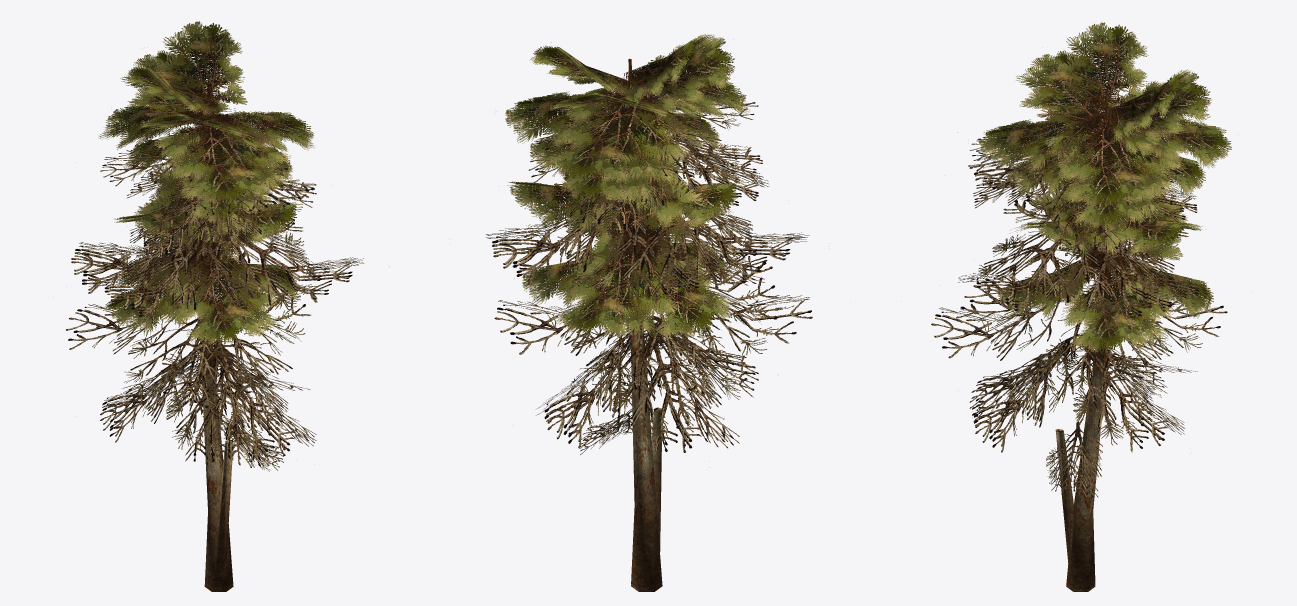
File: flora_tree_pine_black_v2.glb
The picture shows the model from 3 angles, left to right: view 1: azimuth 30°, elevation 25°; view 2: azimuth 150°, elevation 25°; view 3: azimuth 270°, elevation 25°; orthographic projection. The views are drawn at different scales.
Visible parts, largest first — view 1: flora_tree_pine_black_v2_part0, flora_tree_pine_black_v2_part1; view 2: flora_tree_pine_black_v2_part0, flora_tree_pine_black_v2_part1; view 3: flora_tree_pine_black_v2_part0, flora_tree_pine_black_v2_part1.
Part boxes in pixels (x1=…): flora_tree_pine_black_v2_part0: x1=99, y1=21, x2=313, y2=591; flora_tree_pine_black_v2_part1: x1=66, y1=124, x2=363, y2=471; flora_tree_pine_black_v2_part0: x1=505, y1=34, x2=749, y2=591; flora_tree_pine_black_v2_part1: x1=485, y1=89, x2=812, y2=454; flora_tree_pine_black_v2_part0: x1=978, y1=22, x2=1231, y2=591; flora_tree_pine_black_v2_part1: x1=931, y1=128, x2=1227, y2=497.
Size of the model in its own units: 16.65 by 25.93 by 17.
Materials: 2 (2 with a texture image).
